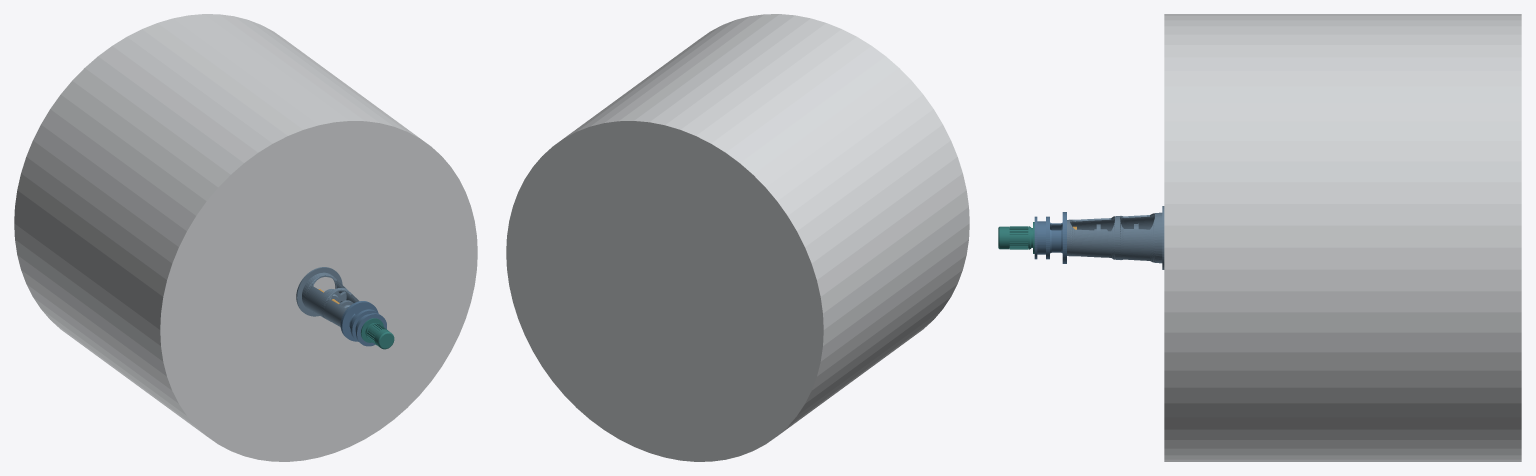
The picture shows the model from 3 angles, left to right: view 1: azimuth 30°, elevation 25°; view 2: azimuth 150°, elevation 25°; view 3: azimuth 270°, elevation 25°; orthographic projection. The views are drawn at different scales.
Parts seen in each view (by area): view 1: Equipment, 06_Tapered_window_frame_with_bored_seats, 01_Motor, 06_Frame_foot, 02_Base_flange_top; view 2: Equipment; view 3: Equipment, 06_Tapered_window_frame_with_bored_seats, 01_Motor.
Boxes of the visible parts, x1,y1,x2,y2 form: Equipment: (14,14,477,461); 06_Tapered_window_frame_with_bored_seats: (302,272,359,326); 01_Motor: (361,318,394,349); 06_Frame_foot: (296,267,342,316); 02_Base_flange_top: (341,301,378,341); Equipment: (506,14,969,461); Equipment: (1164,14,1521,461); 06_Tapered_window_frame_with_bored_seats: (1067,212,1162,263); 01_Motor: (998,222,1034,253).
Size of the model in its own units: 5.9 by 5.9 by 6.89.
